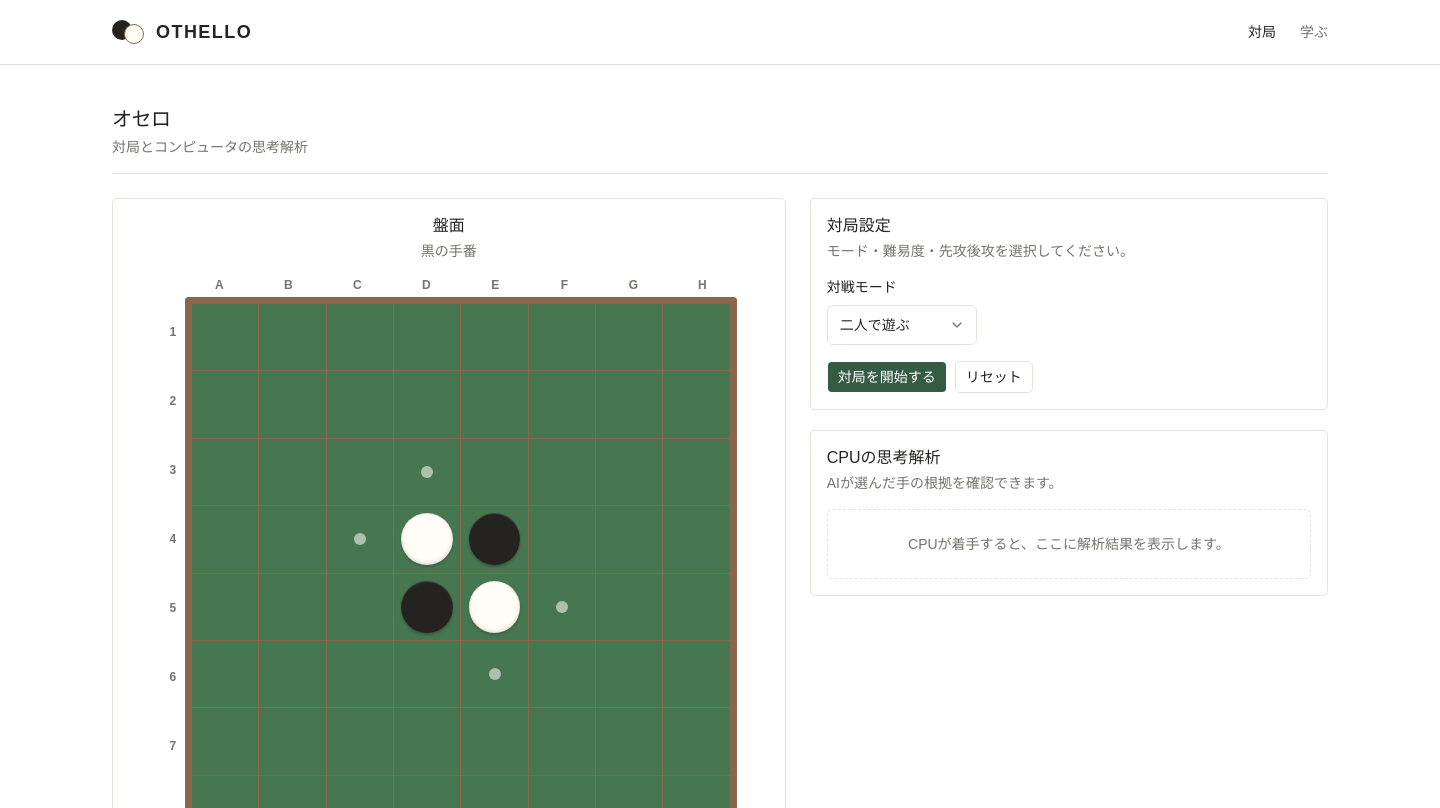
App › リセット後は対局設定を再び変更できる
Click the button "対局を開始する" at (887, 377), box [827, 361, 947, 393]
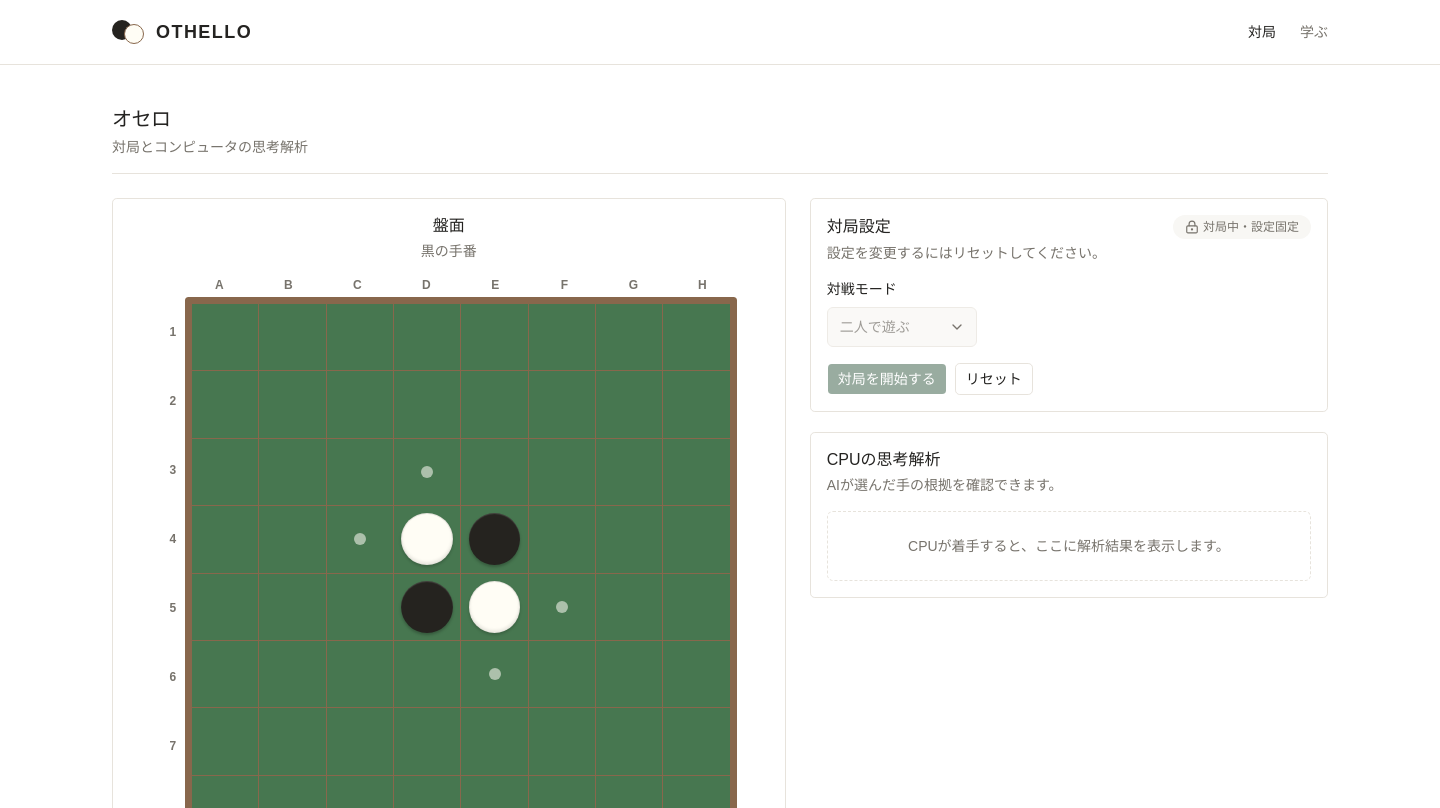
Result: the button "対局を開始する" is disabled at [827, 363, 947, 395]
Click the button "リセット" at (994, 379), box [955, 363, 1033, 395]
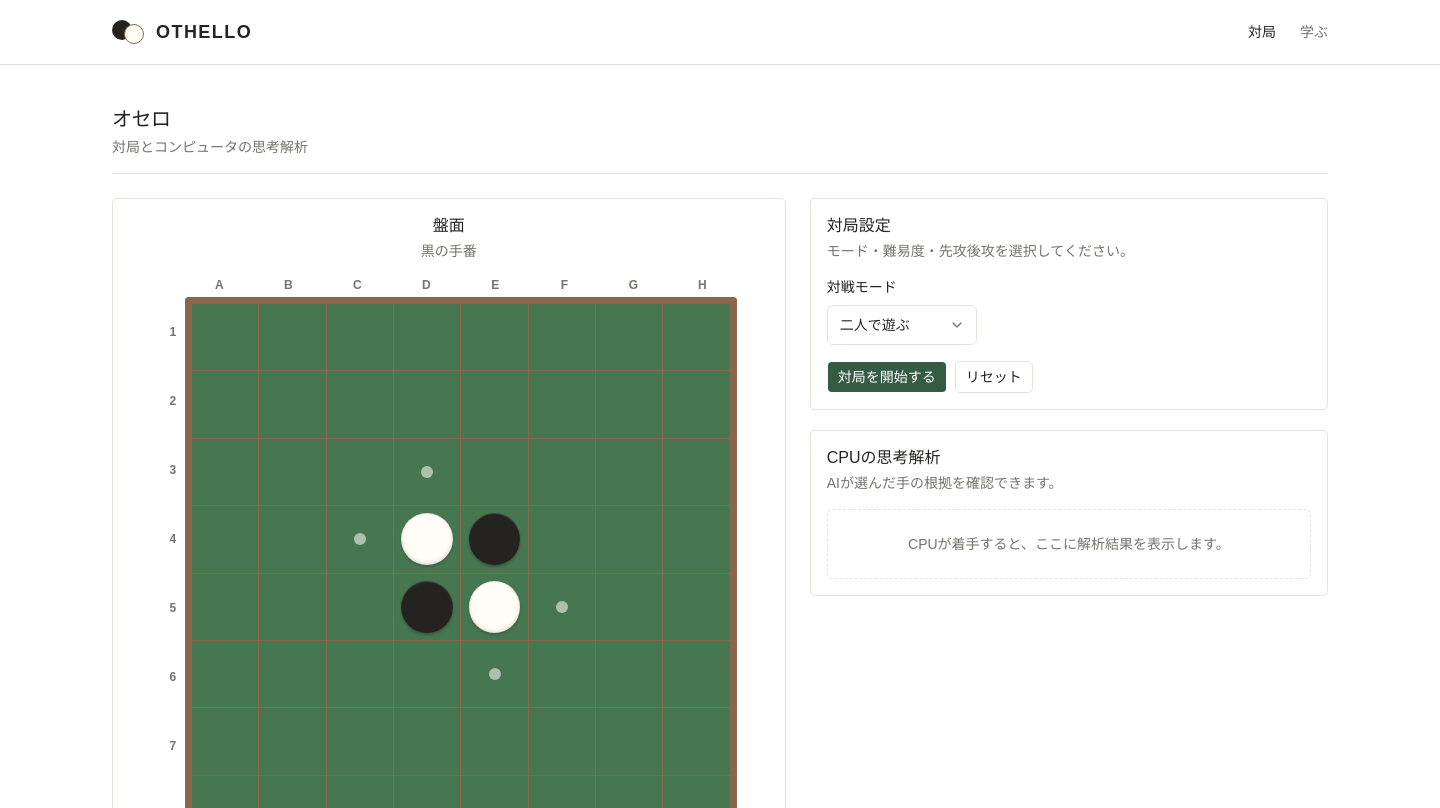
Result: the dropdown labelled "対戦モード" is enabled at [827, 305, 978, 345]
Result: the button "対局を開始する" is enabled at [827, 361, 947, 393]
